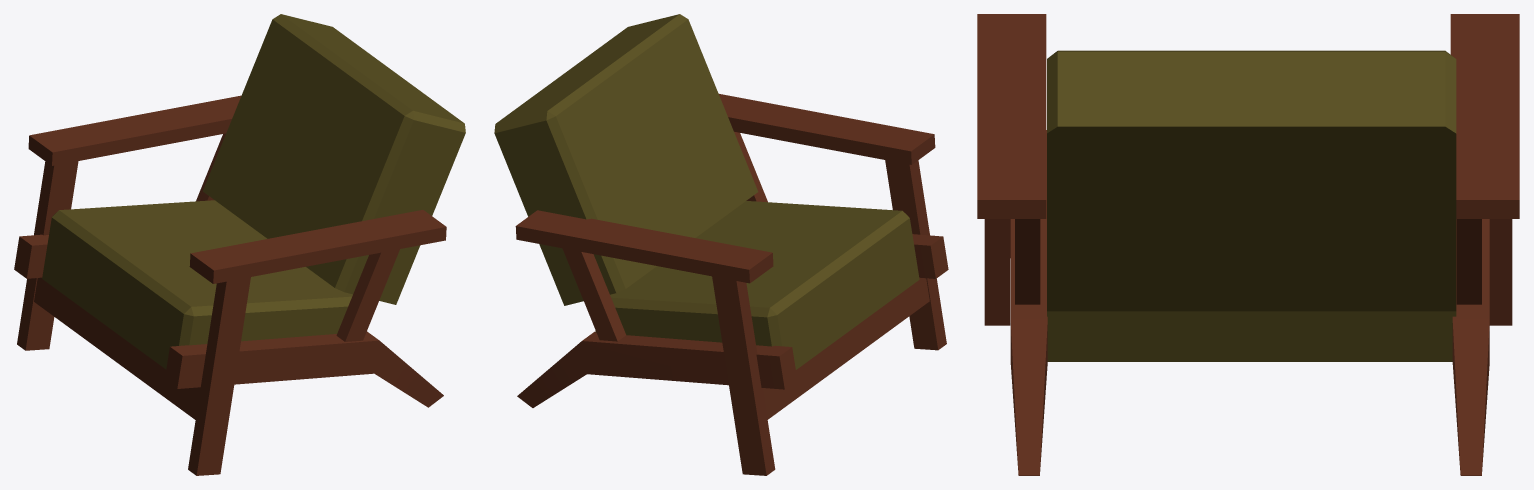
The model's file is SM_Chair.fbx.
3 views of the same model, side by side, from view 1: azimuth 30°, elevation 25°; view 2: azimuth 150°, elevation 25°; view 3: azimuth 270°, elevation 25° (orthographic). The views are drawn at different scales.
Parts seen in each view (by area): view 1: pCube102; view 2: pCube102; view 3: pCube102.
Part boxes in pixels (x1,y1,x2,y2): pCube102: (14,14,465,475); pCube102: (494,14,948,475); pCube102: (977,14,1519,475).
Bounding box in the file's own units: 30.3 × 27.89 × 31.93.
